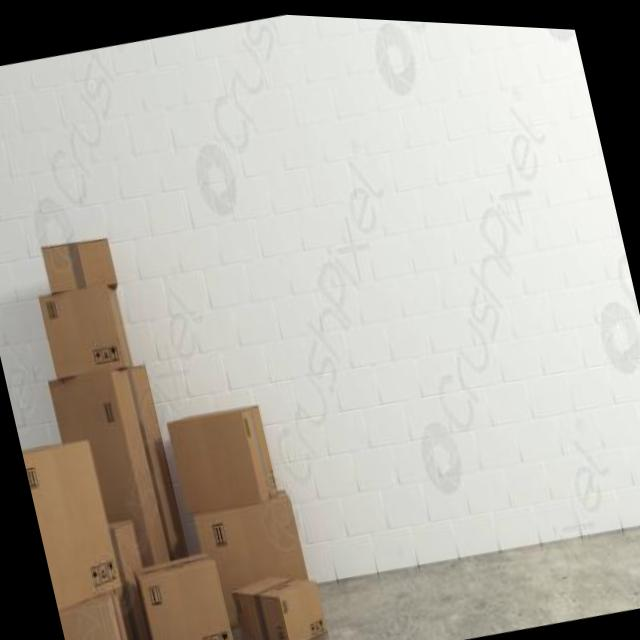box: (41, 351, 201, 599), (160, 387, 301, 598), (18, 419, 123, 605), (186, 478, 312, 603), (28, 267, 137, 390), (131, 541, 245, 640), (230, 565, 342, 640), (109, 509, 168, 640), (36, 219, 121, 303), (54, 579, 141, 640)
